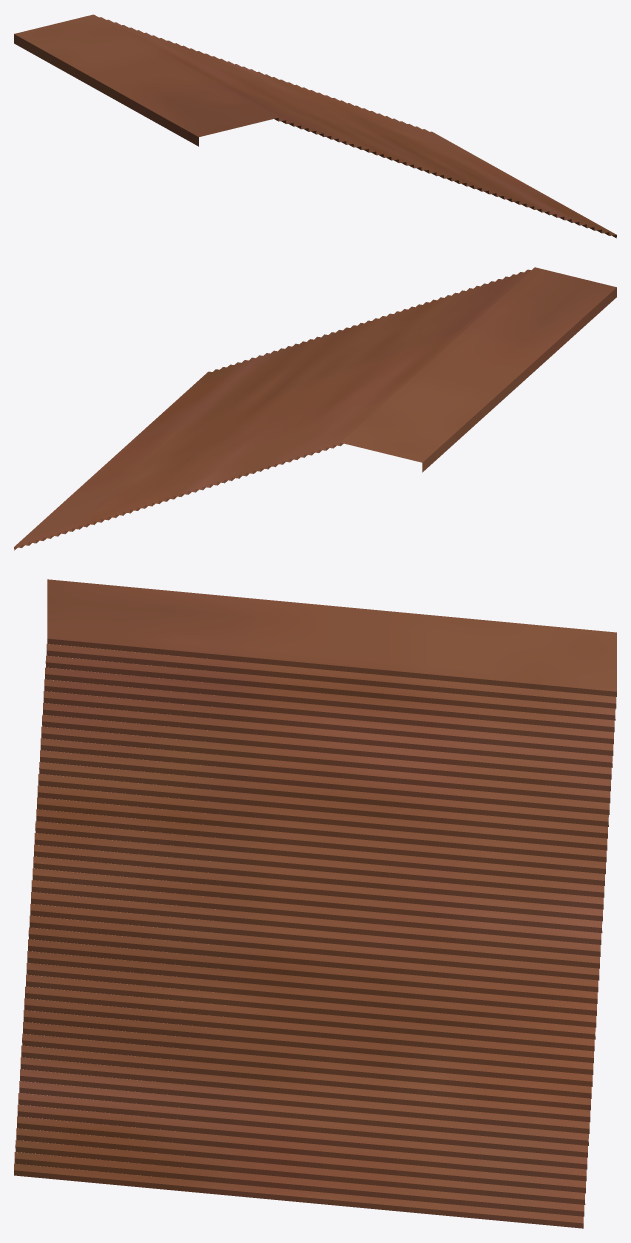
Rendered from trapp.fbx.
The picture shows the model from 3 angles, top to bottom: view 1: azimuth 30°, elevation 25°; view 2: azimuth 150°, elevation 25°; view 3: azimuth 270°, elevation 25°; orthographic projection. The views are drawn at different scales.
Parts seen in each view (by area): view 1: tile6_s12; view 2: tile6_s12; view 3: tile6_s12.
Boxes of the visible parts, x1,y1,x2,y2 form: tile6_s12: (14, 14, 616, 238); tile6_s12: (14, 267, 616, 550); tile6_s12: (14, 579, 616, 1228).
Size of the model in its own units: 37.73 by 19.97 by 31.61.
